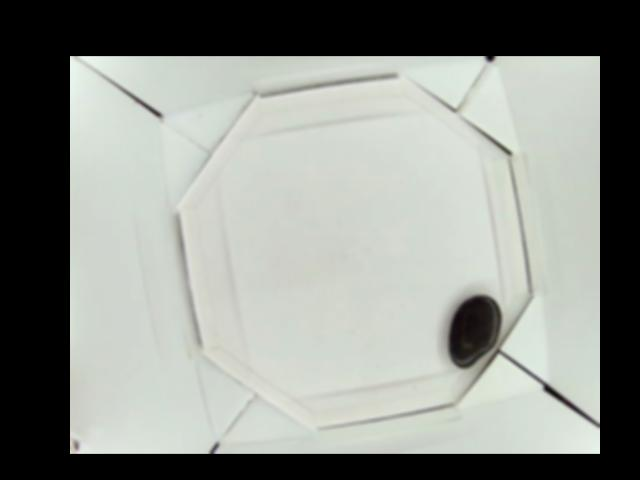Pebble: (446, 296, 503, 368)
